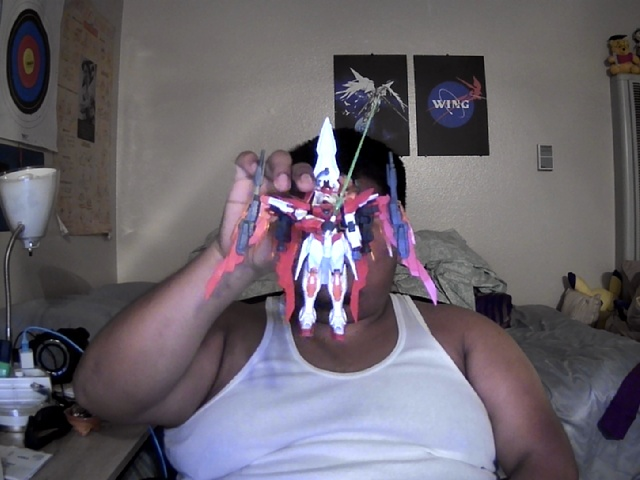Honoo: (203, 117, 438, 346)
